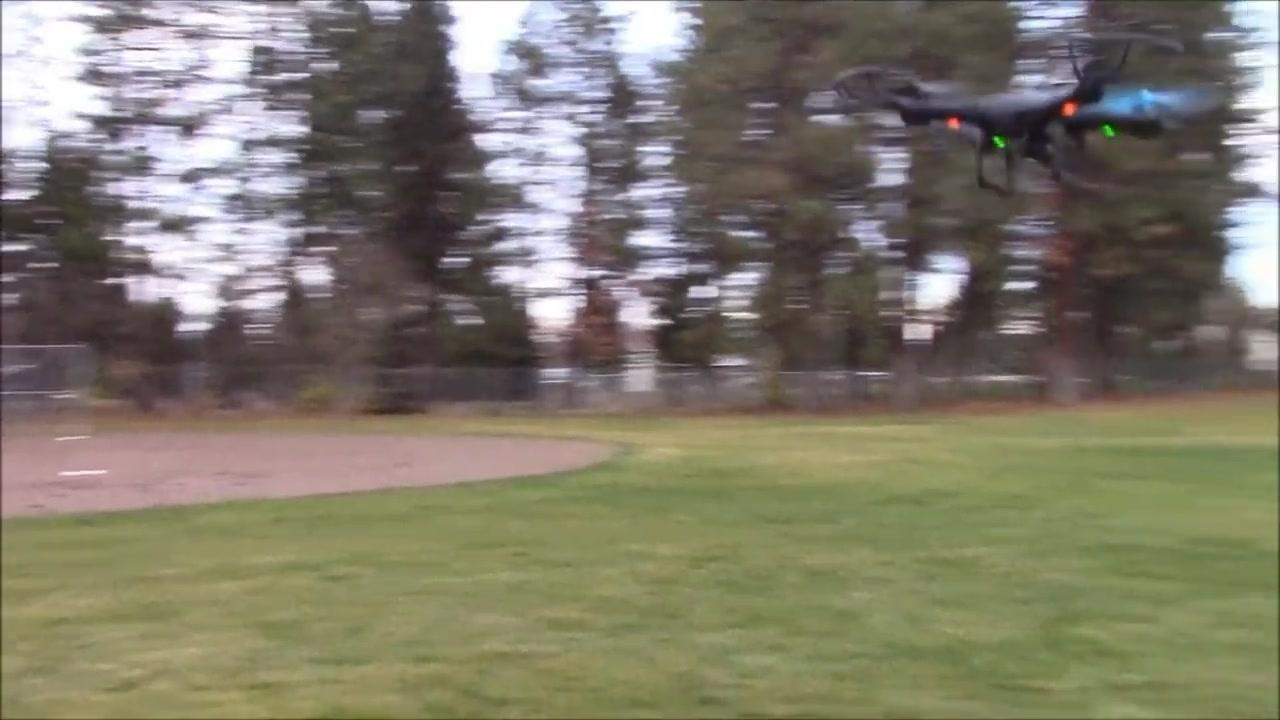UAV: (832, 40, 1230, 199)
